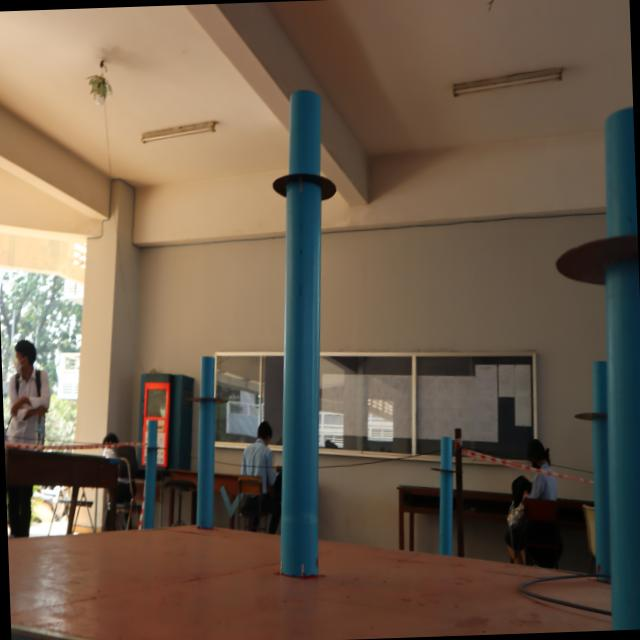pole: (249, 86, 356, 258), (185, 350, 233, 430), (422, 430, 464, 500), (136, 424, 162, 468)
